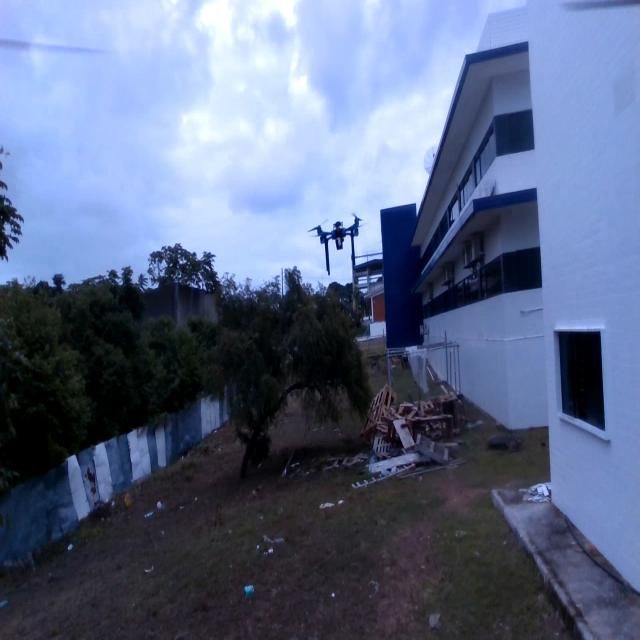-uav-: (304, 206, 372, 292)
